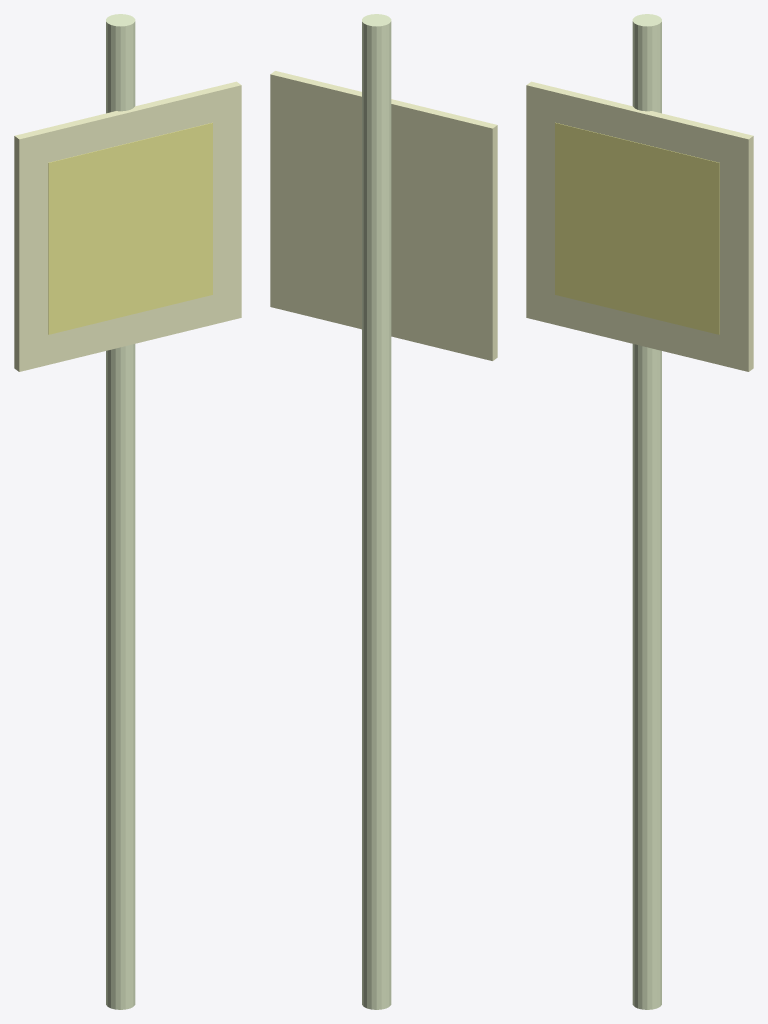
File: sign_priority_road.glb
3 renders of one model, left to right at view 1: azimuth 30°, elevation 25°; view 2: azimuth 150°, elevation 25°; view 3: azimuth 330°, elevation 25°, orthographic.
Visible parts, largest first — view 1: layer_1_00, plate_base_00, pole; view 2: plate_base_00, pole; view 3: layer_1_00, plate_base_00, pole.
Part boxes in pixels (<box>): layer_1_00: <box>48,122,212,334</box>; plate_base_00: <box>14,81,241,371</box>; pole: <box>106,14,135,1009</box>; plate_base_00: <box>270,71,497,360</box>; pole: <box>362,14,391,1009</box>; layer_1_00: <box>555,122,719,334</box>; plate_base_00: <box>526,81,753,371</box>; pole: <box>632,14,661,1009</box>.
Size of the model in its own units: 0.5204 by 2.2 by 0.071.
